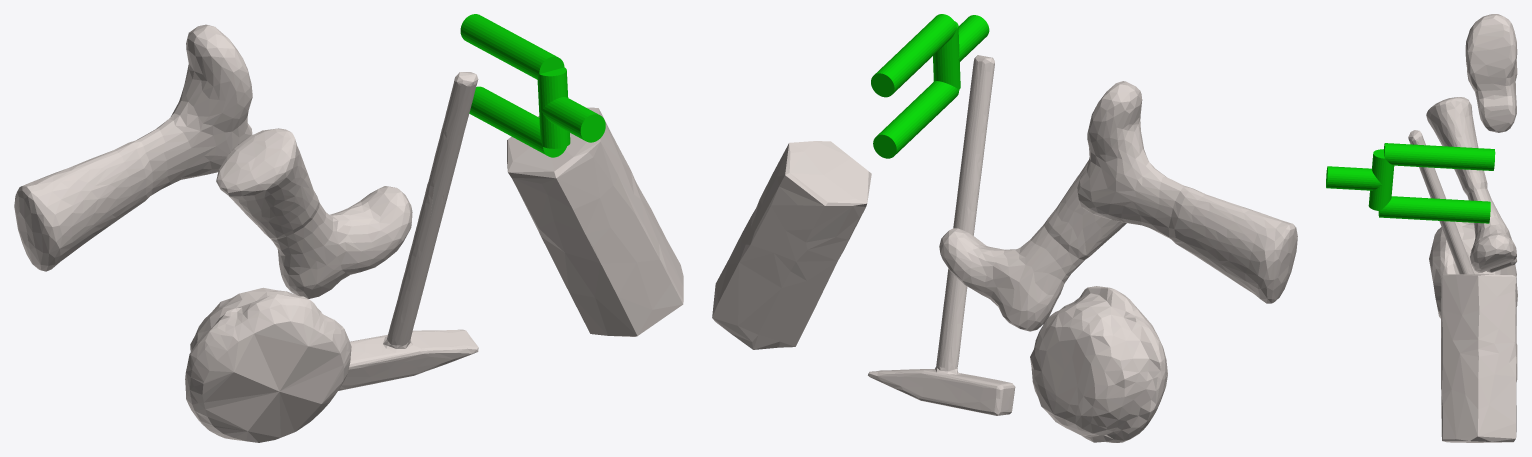
Rendered from round_000_trial_000.obj.
3 views of the same model, side by side, from view 1: azimuth 30°, elevation 25°; view 2: azimuth 150°, elevation 25°; view 3: azimuth 270°, elevation 25° (orthographic). The views are drawn at different scales.
Parts seen in each view (by area): view 1: geometry_0, geometry_1; view 2: geometry_0, geometry_1; view 3: geometry_0, geometry_1.
Part boxes in pixels (x1,y1,x2,y2): geometry_0: [14, 24, 683, 442]; geometry_1: [460, 14, 605, 157]; geometry_0: [712, 55, 1297, 442]; geometry_1: [871, 14, 989, 158]; geometry_0: [1408, 14, 1517, 442]; geometry_1: [1326, 143, 1495, 223].
Bounding box in the file's own units: 0.2519 × 0.1537 × 0.0869.
